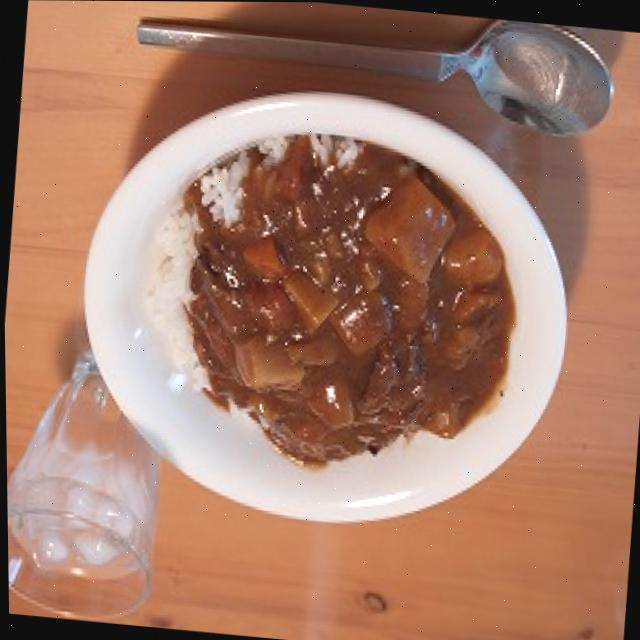牛肉菜式: (61, 69, 588, 547)
